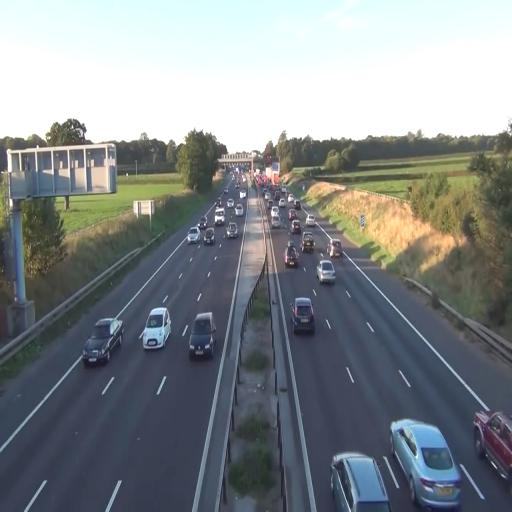vehicle: (389, 418, 462, 509), (330, 451, 392, 512), (473, 408, 512, 487), (84, 317, 124, 367), (141, 307, 172, 351), (188, 312, 215, 359), (291, 297, 315, 334), (316, 259, 336, 286), (284, 242, 300, 269), (302, 234, 314, 254), (187, 227, 200, 244), (226, 221, 238, 238), (291, 218, 303, 235), (204, 229, 215, 245)
